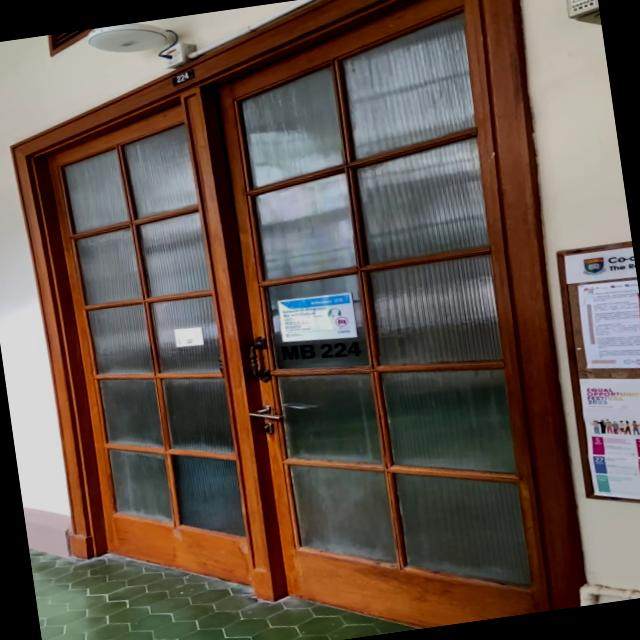room224: (168, 68, 200, 86)
room224Window: (276, 334, 366, 369)
